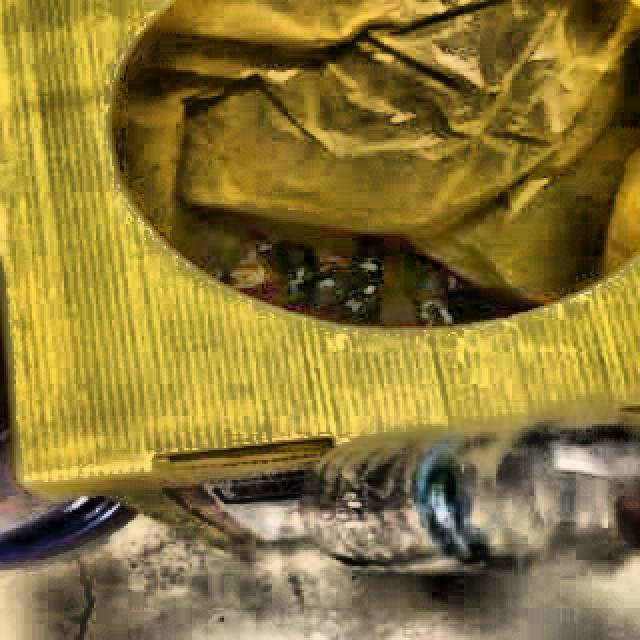plastic: (293, 427, 640, 576)
